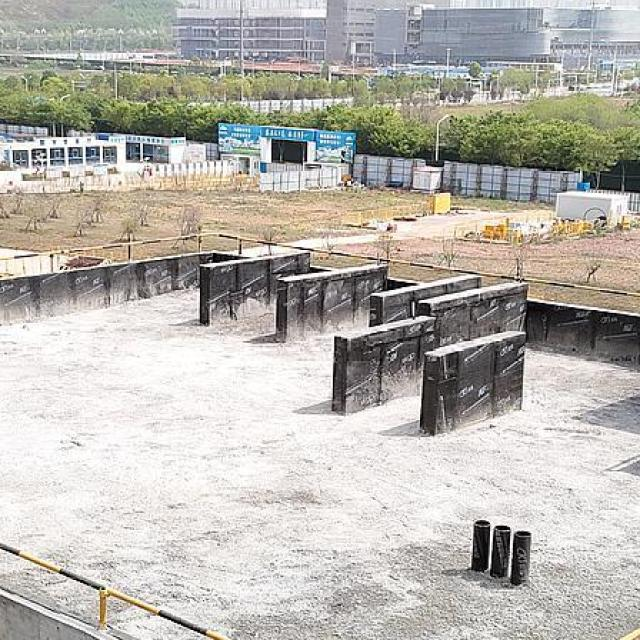edge_guardrail: (0, 225, 640, 296), (0, 541, 233, 640)
